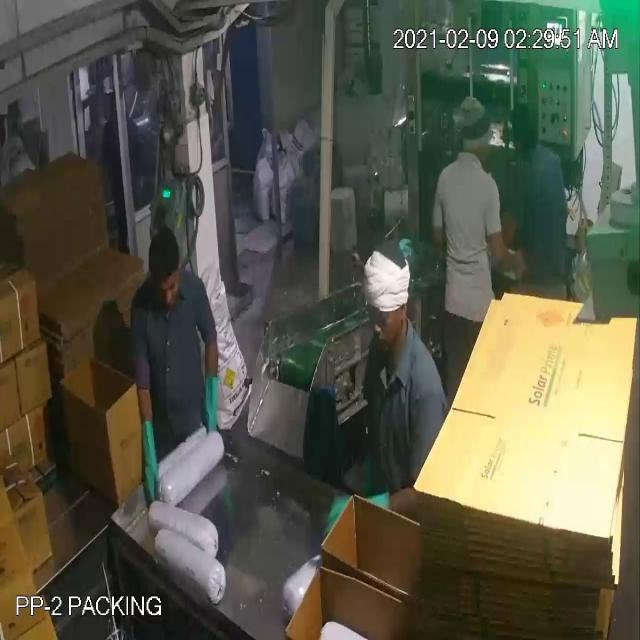Gloves: (37, 66, 512, 458)
